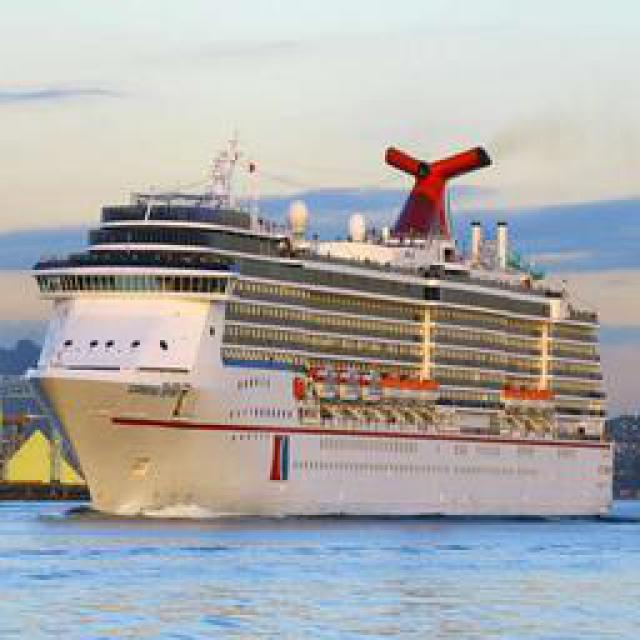Ship: (24, 163, 627, 528)
